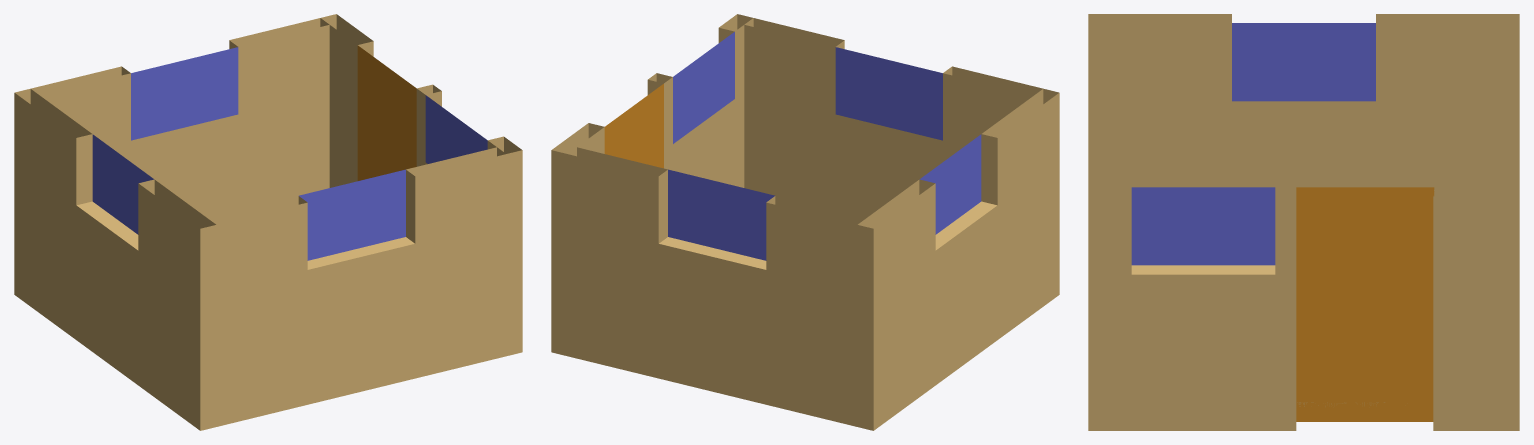
The model's file is sample-LOD05.glb.
The picture shows the model from 3 angles, left to right: view 1: azimuth 30°, elevation 25°; view 2: azimuth 150°, elevation 25°; view 3: azimuth 270°, elevation 25°; orthographic projection. The views are drawn at different scales.
Parts seen in each view (by area): view 1: wall.014, wall.017, wall.015, wall.016, Plane.011, Plane.010, Plane.013, Plane.012, Plane.014; view 2: wall.015, wall.017, wall.014, wall.016, Plane.010, Plane.011, Plane.014, Plane.013, Plane.012; view 3: wall.016, wall.017, Plane.013, Plane.014, Plane.012, wall.014, wall.015.
Part boxes in pixels (x1,y1,x2,y2): wall.014: (207,147,506,426); wall.017: (14,88,216,430); wall.015: (30,18,329,217); wall.016: (320,14,522,356); Plane.011: (131,47,238,140); Plane.010: (299,169,405,260); Plane.013: (357,45,416,180); Plane.012: (92,134,154,234); Plane.014: (425,95,487,163); wall.015: (567,147,866,426); wall.017: (857,88,1059,430); wall.014: (744,18,1043,217); wall.016: (551,14,753,356); Plane.010: (835,47,942,140); Plane.011: (668,169,774,260); Plane.014: (673,32,734,143); Plane.013: (604,84,663,168); Plane.012: (919,134,981,234); wall.016: (1088,187,1519,430); wall.017: (1088,14,1519,187); Plane.013: (1296,187,1434,421); Plane.014: (1131,187,1275,265); Plane.012: (1232,23,1375,101); wall.014: (1088,74,1109,196); wall.015: (1498,74,1519,196).
Size of the model in its own units: 2 by 1.2 by 2.
